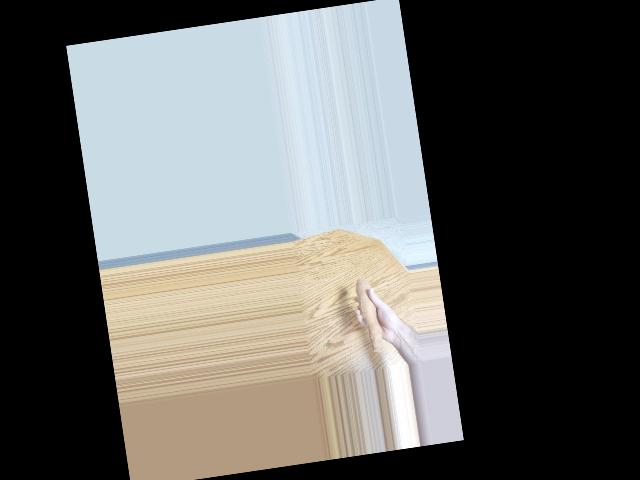sweet_potato: (354, 271, 388, 356)
